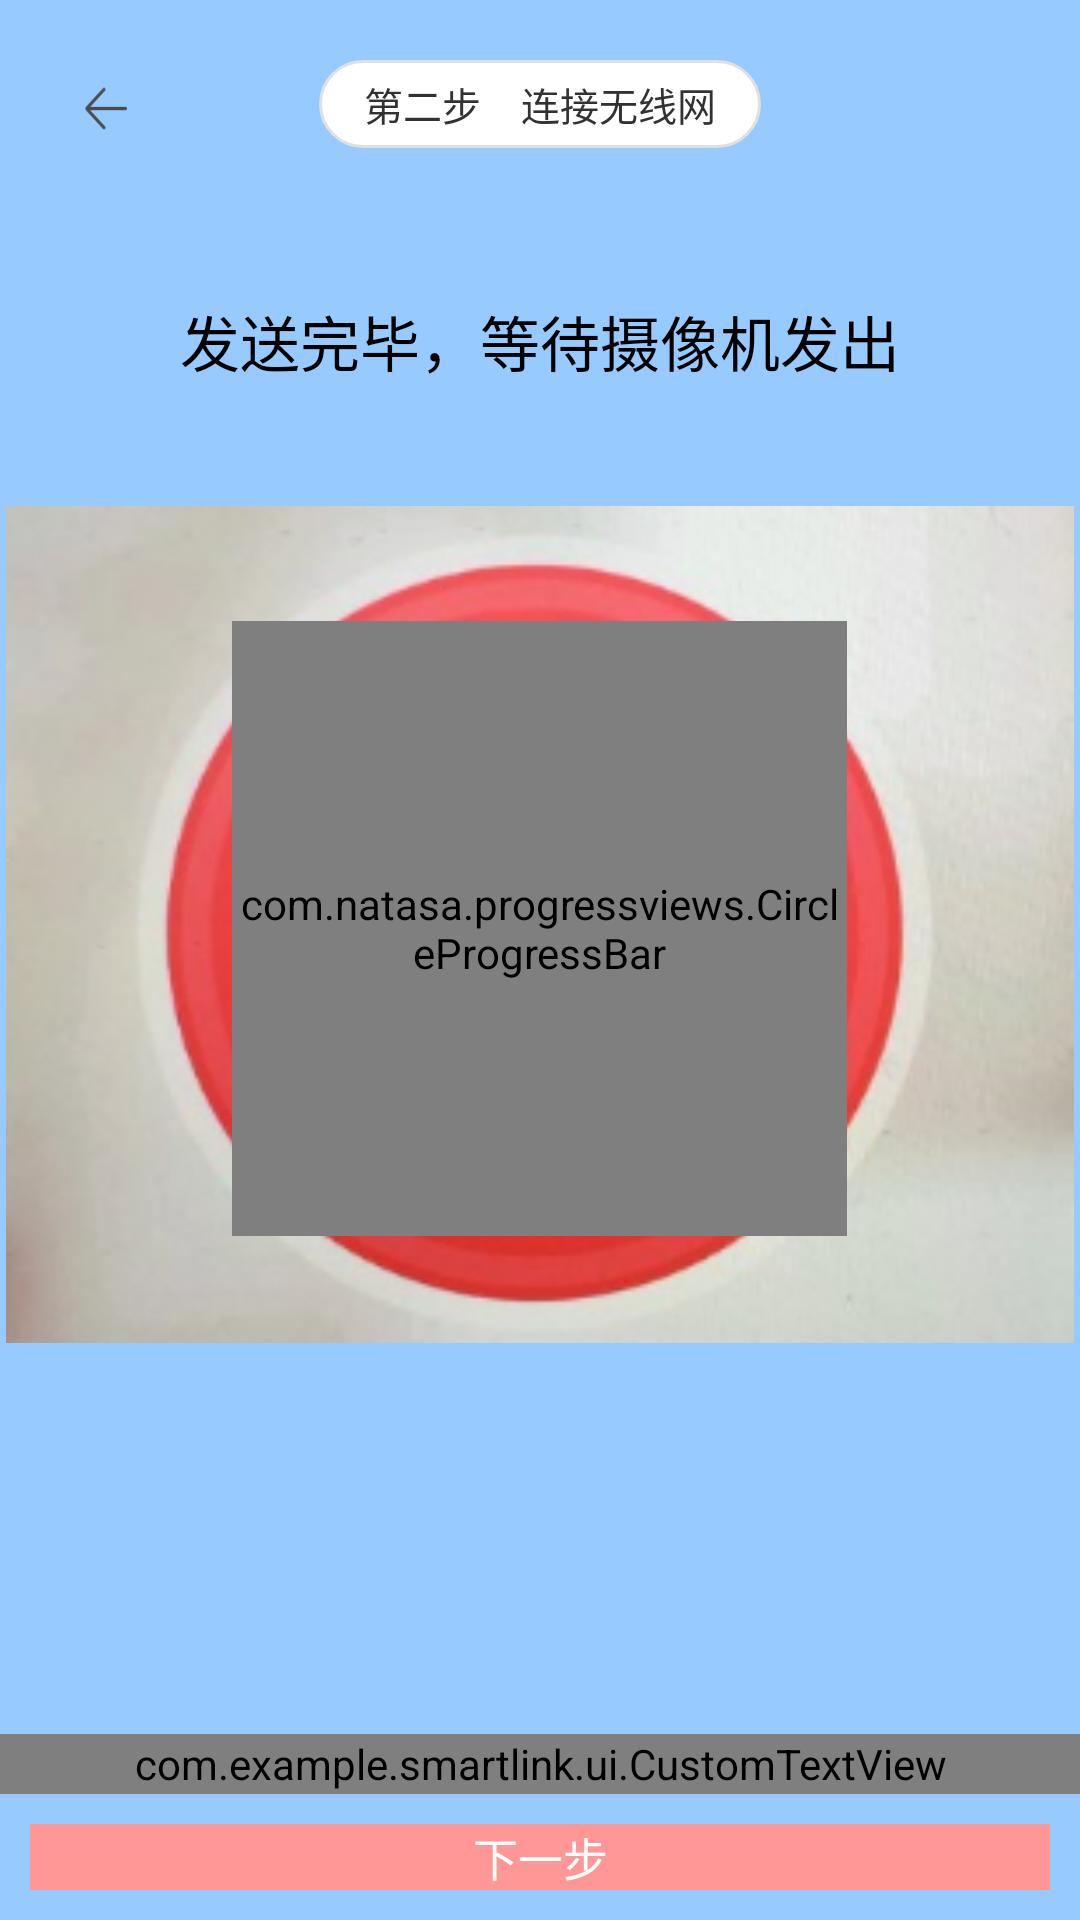

Icons on this 1080px x 1920px Android screen, each with its box as {"left": x1, "top": y1, "right": x2, "bottom": y2}:
title back: {"left": 85, "top": 87, "right": 127, "bottom": 130}
